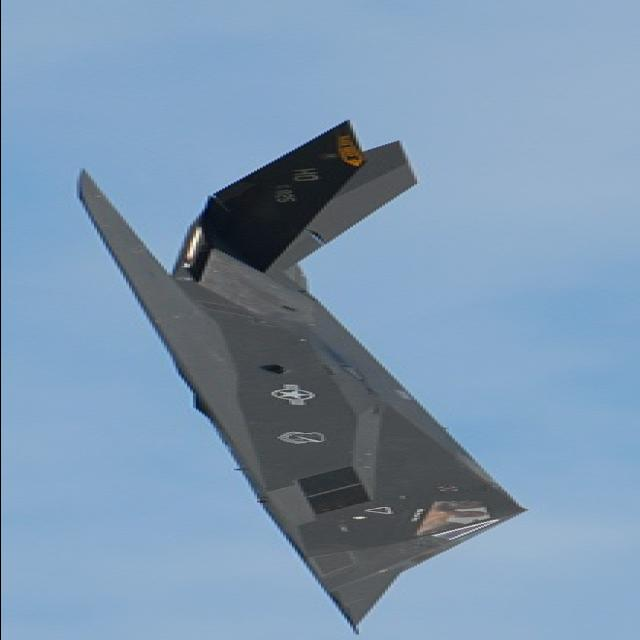F117: (52, 104, 606, 636)
